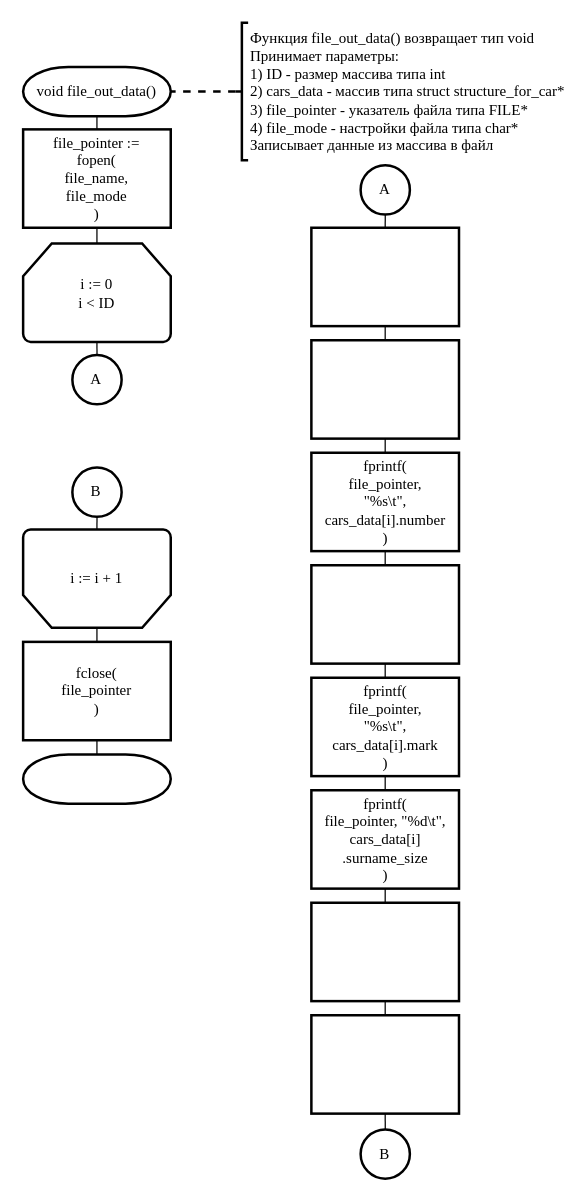
The diagram is 586 pixels wide and 1201 high, and some of its shapes have lost their labels. Each missing label, with the box of its shape:
fprintf( file_pointer, "%d\n", cars_data[i].osmotr ): (310, 1013, 460, 1114)
fprintf( file_pointer, "%d\t", cars_data[i] .number_size ): (310, 338, 460, 439)
fprintf( file_pointer, "%d\t", cars_data[i].mark_size ): (310, 563, 460, 664)
fprintf( file_pointer, "%d\t", i ): (310, 226, 460, 327)
fprintf( file_pointer, "%s\t", cars_data[i].surname ): (310, 901, 460, 1002)
Конец: (21, 752, 171, 804)
